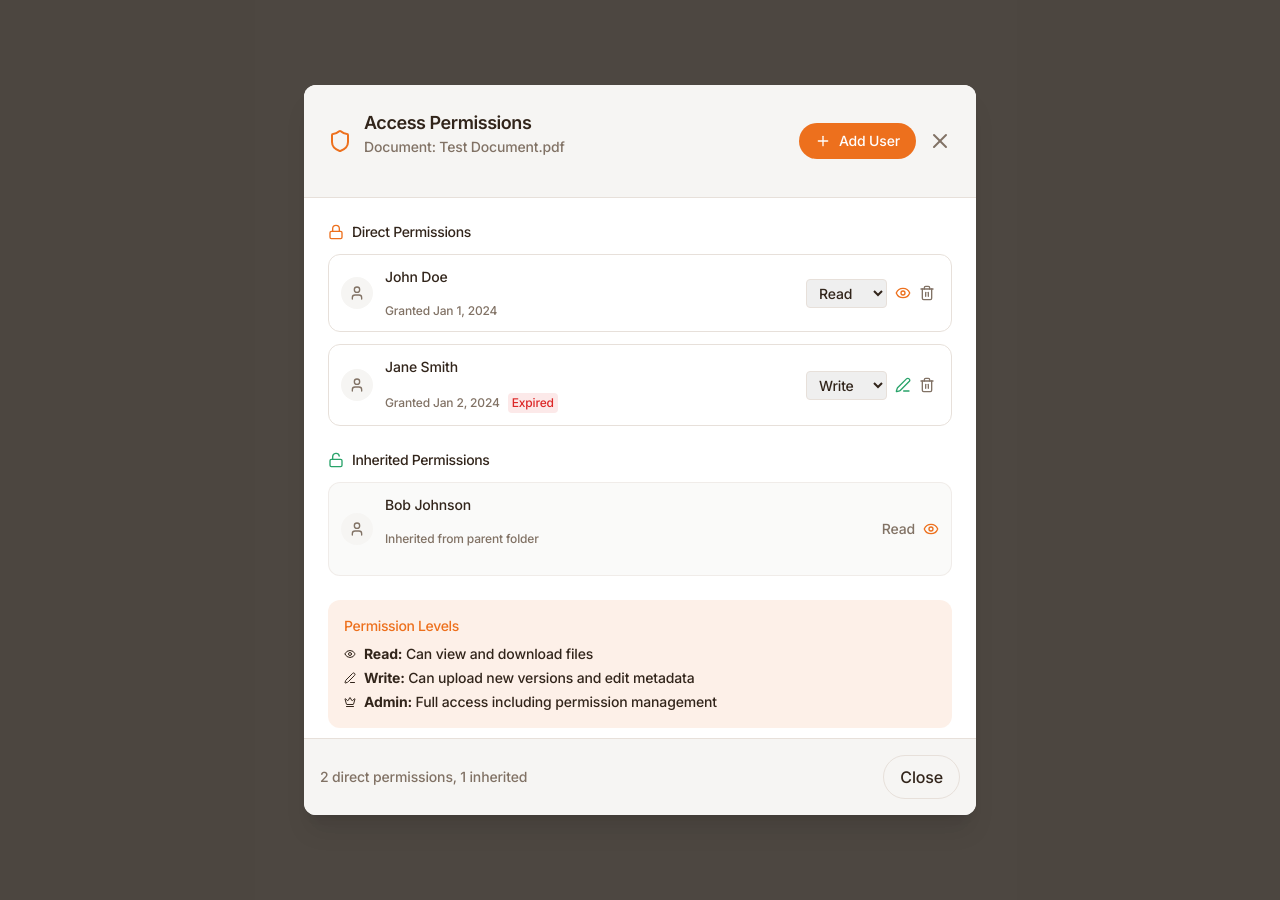
DocumentPermissions › Add Permission › should select user when clicked
This screenshot has width=1280, height=900.
Click the button "Add User". click: (857, 141)
box: [799,123,916,159]
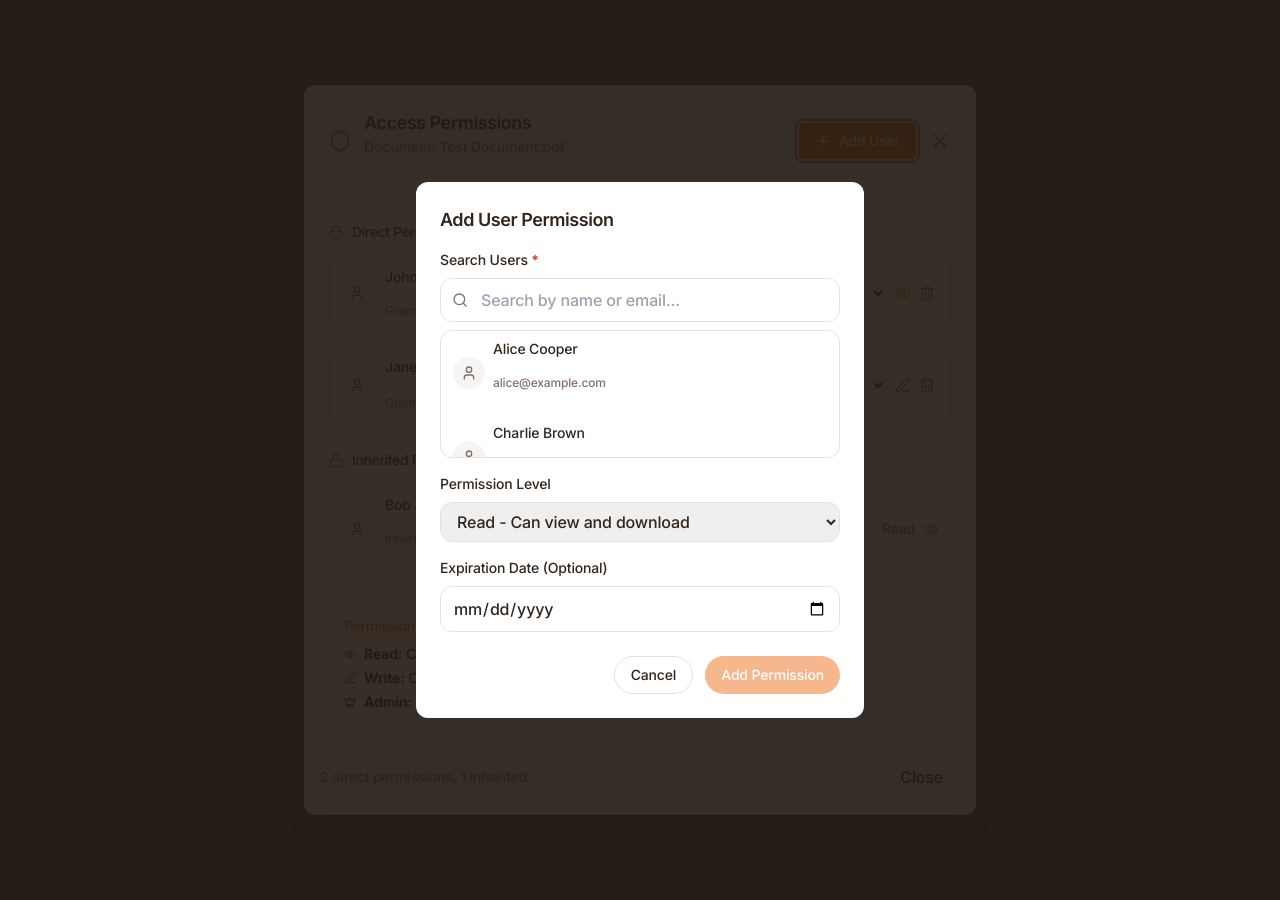
Expected: the text "Alice Cooper" is shown, [493,340,578,357]
Click the button "Alice Cooper alice@example.com". click: (469, 373)
box: [441,331,839,415]
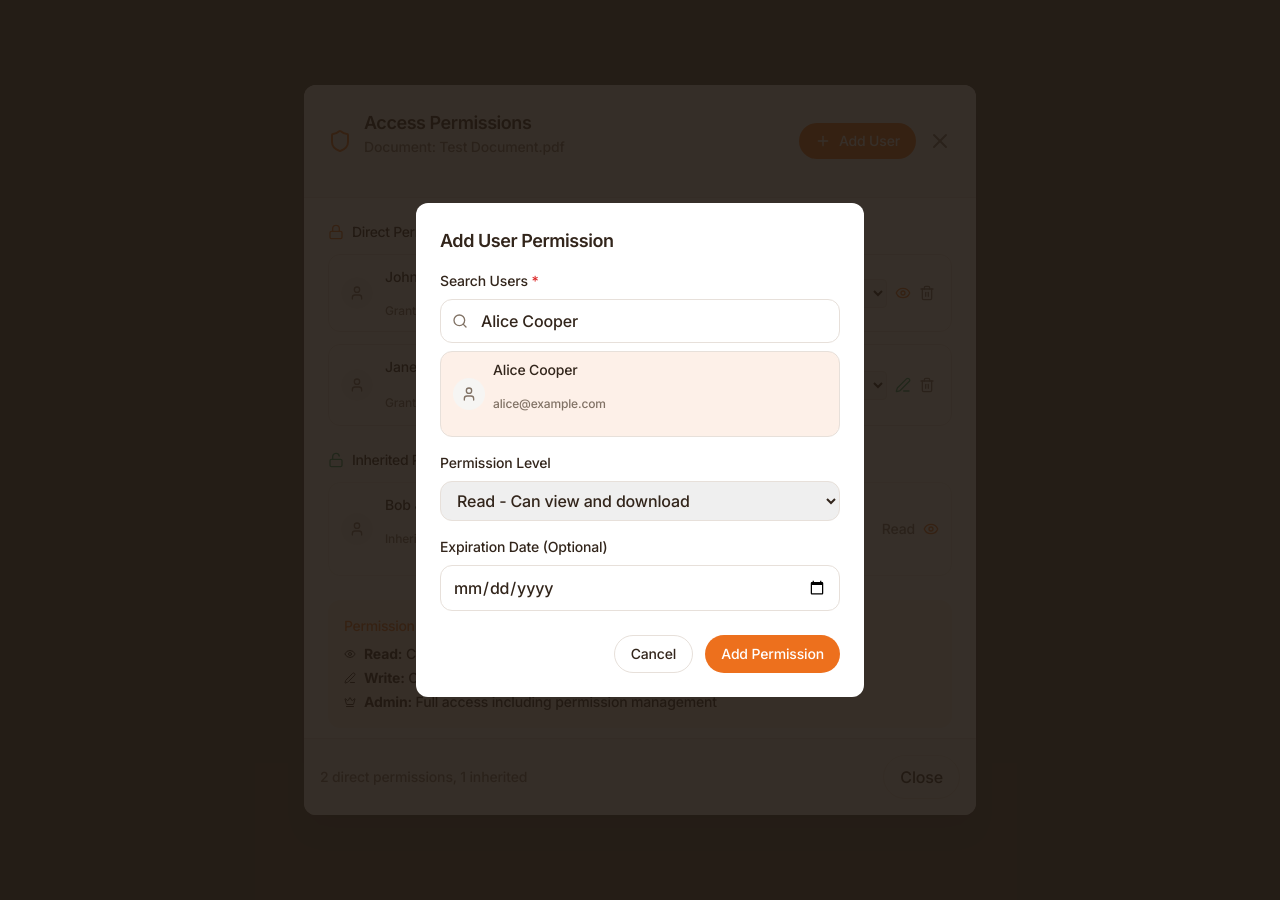
Expected: the field with placeholder "Search by name or email..." holds "Alice Cooper", [440,299,840,343]
